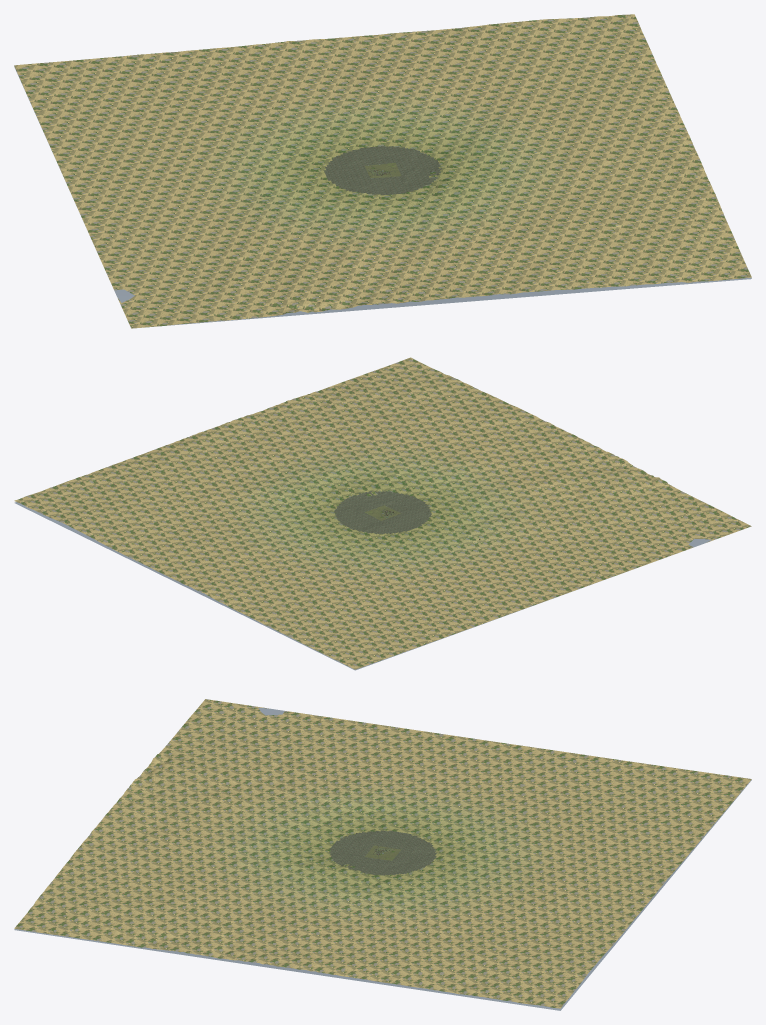
The model's file is barossa_backdrop_part1.glb.
3 renders of one model, top to bottom at view 1: azimuth 30°, elevation 25°; view 2: azimuth 150°, elevation 25°; view 3: azimuth 270°, elevation 25°, orthographic. The views are drawn at different scales.
Parts seen in each view (by area): view 1: bg_far_terrain, bg_far_suburb, bg_far_water; view 2: bg_far_terrain, bg_far_suburb, bg_far_water; view 3: bg_far_terrain, bg_far_suburb, bg_far_water.
Boxes of the visible parts, x1,y1,x2,y2 form: bg_far_terrain: (14,14,751,328); bg_far_suburb: (324,145,441,195); bg_far_water: (14,66,751,328); bg_far_terrain: (14,357,751,669); bg_far_suburb: (334,491,431,534); bg_far_water: (14,495,711,670); bg_far_terrain: (14,699,751,1008); bg_far_suburb: (329,830,436,875); bg_far_water: (14,707,751,1010).
Bounding box in the file's own units: 76459 × 625 × 76459.
22 materials, 15 textured.
